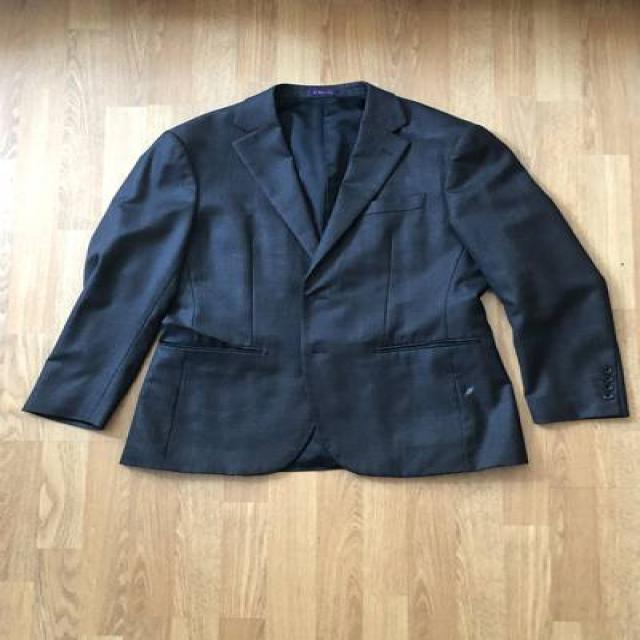Clothes -Biodegradable-: (23, 81, 631, 479)
